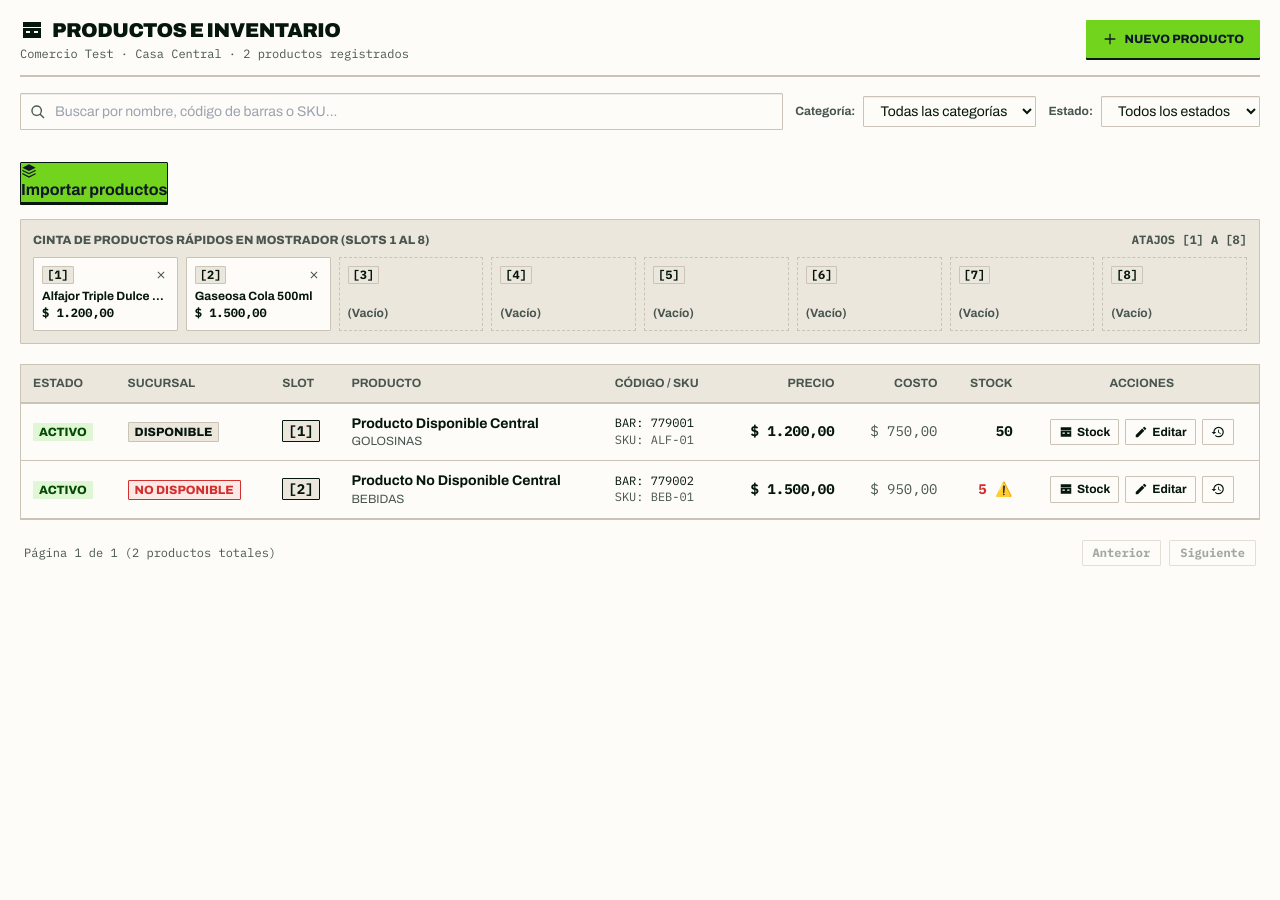
Test: ProductsScreen ("Mostrador vivo" Visual Catalog) › displays branch availability status with accessible label and allows toggling in edit modal
Expected: the text named "Disponibilidad en sucursal: Disponible" is shown, [128,422,219,442]
Expected: the text named "Disponibilidad en sucursal: No disponible" is shown, [128,480,241,500]
// Open edit on unavailable product
Click the button titled "Editar producto" in the row of "Producto No Disponible Central" at coordinates (1160, 489), box [1125,476,1196,503]
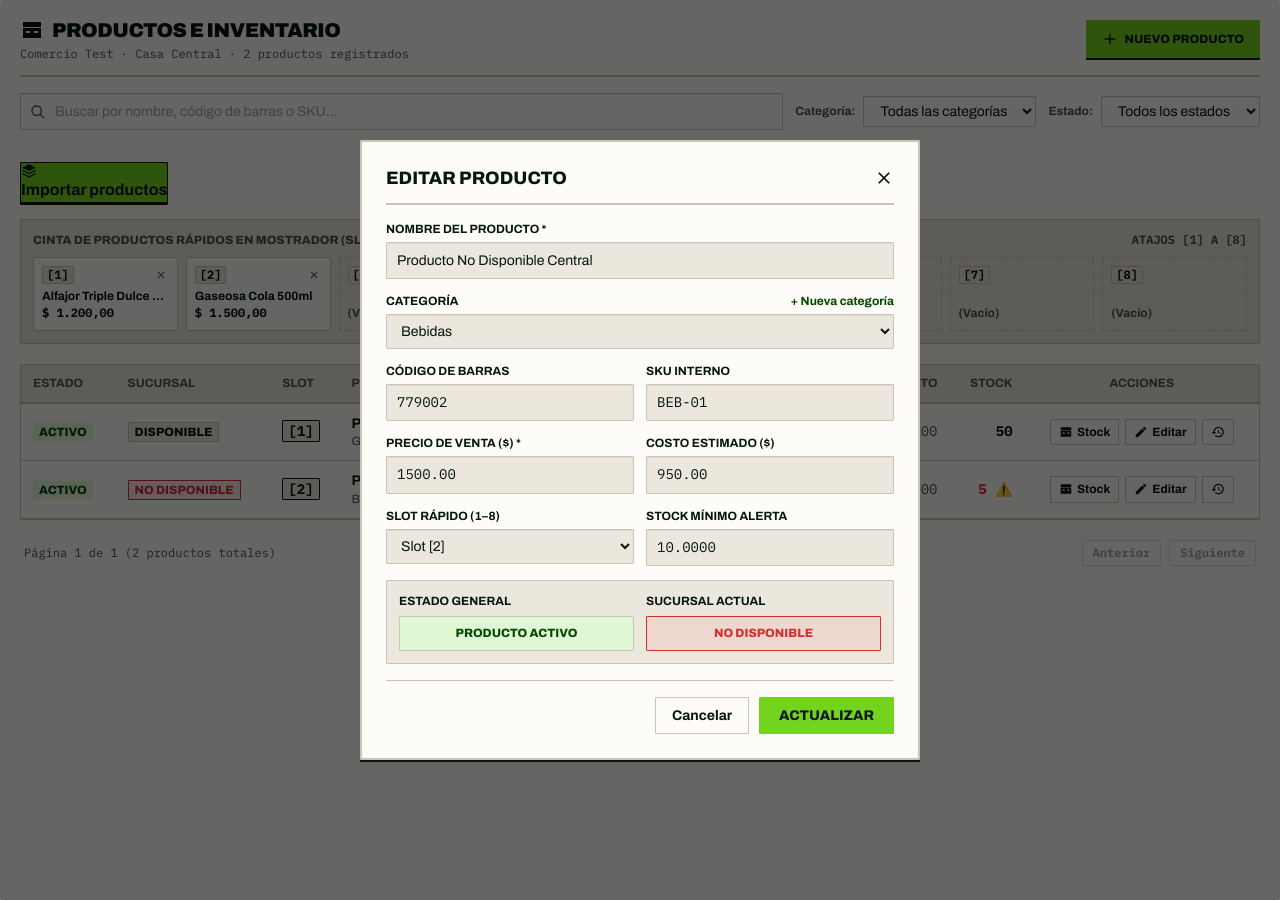
Expected: the button with aria-label "Disponibilidad en esta sucursal:" is shown
Expected: the button "NO DISPONIBLE" is shown
// Toggle availability
Click the button "NO DISPONIBLE" at coordinates (764, 633), box [646,616,881,651]
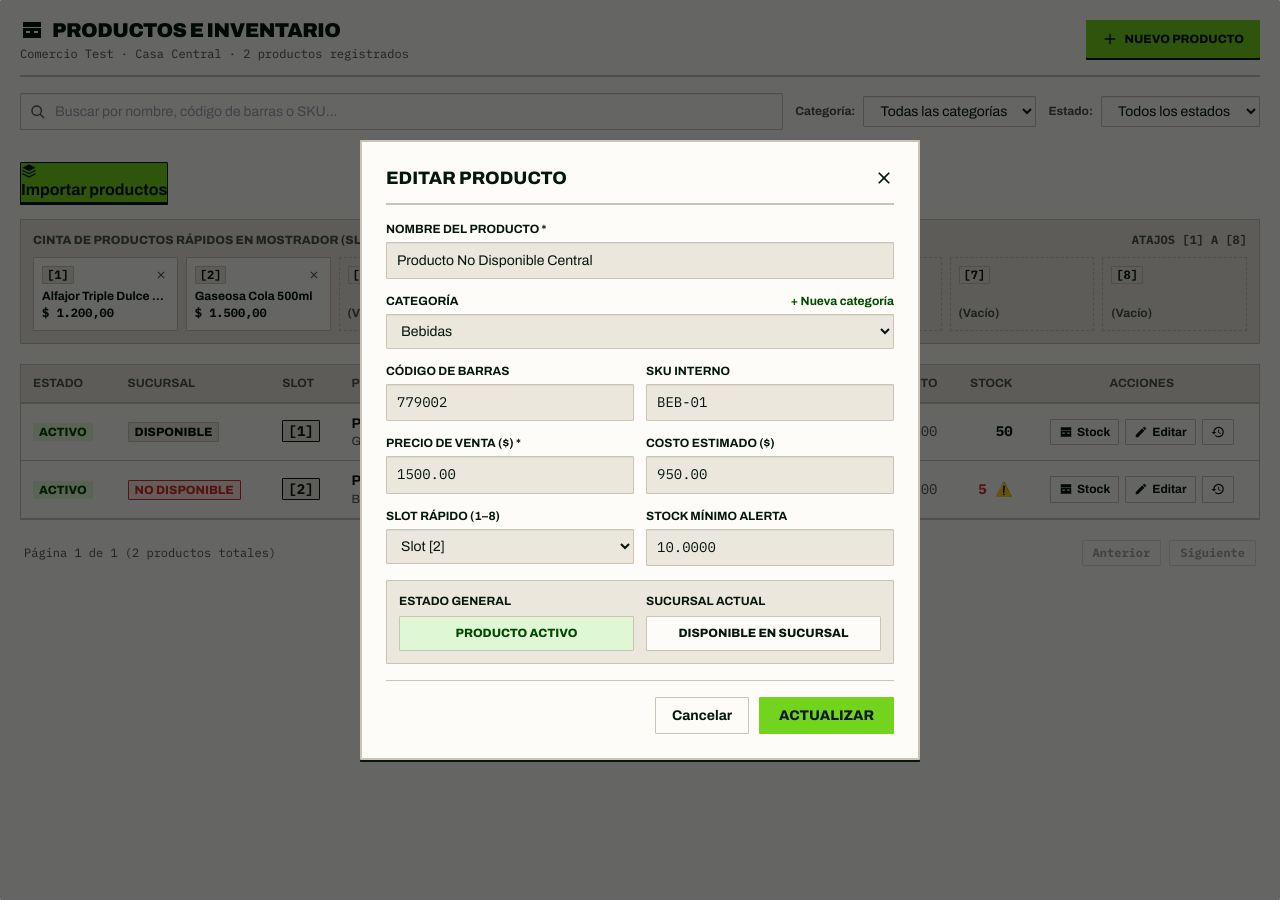
Expected: the button "DISPONIBLE EN SUCURSAL" is shown, [646,616,881,651]
